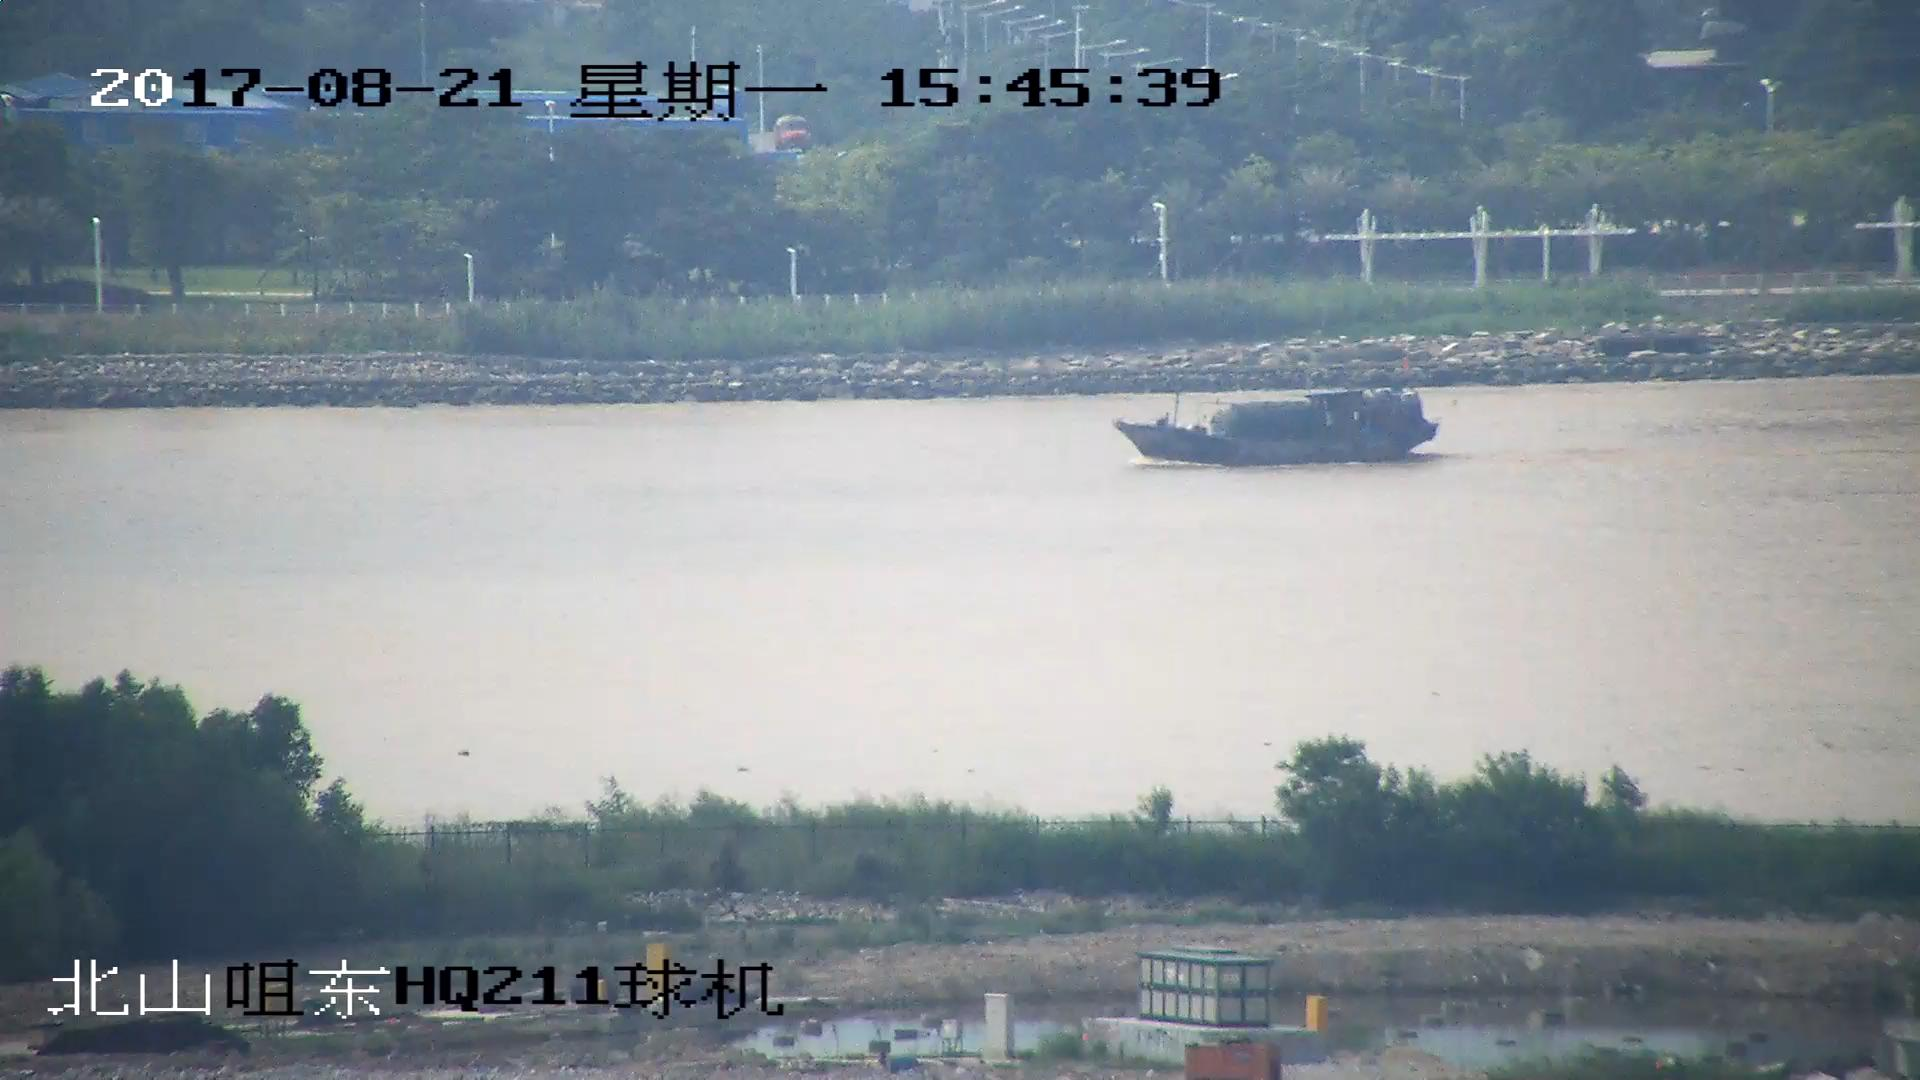fishing boat: (1118, 386, 1435, 462)
